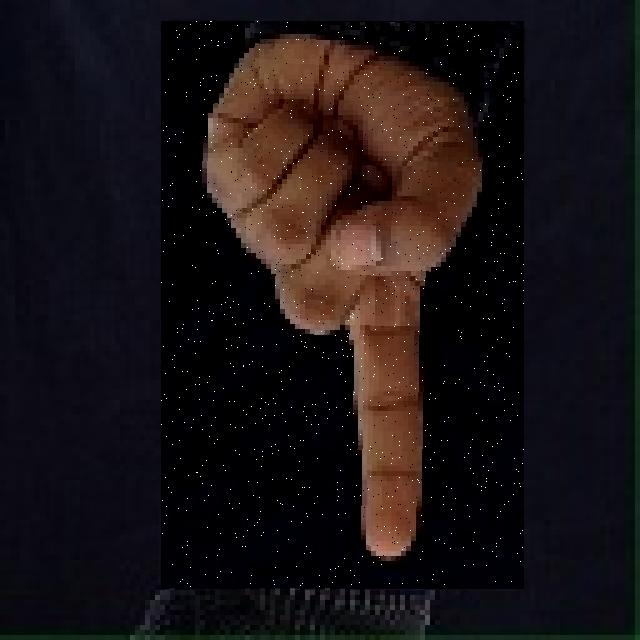IloveYou: (161, 21, 524, 589)
